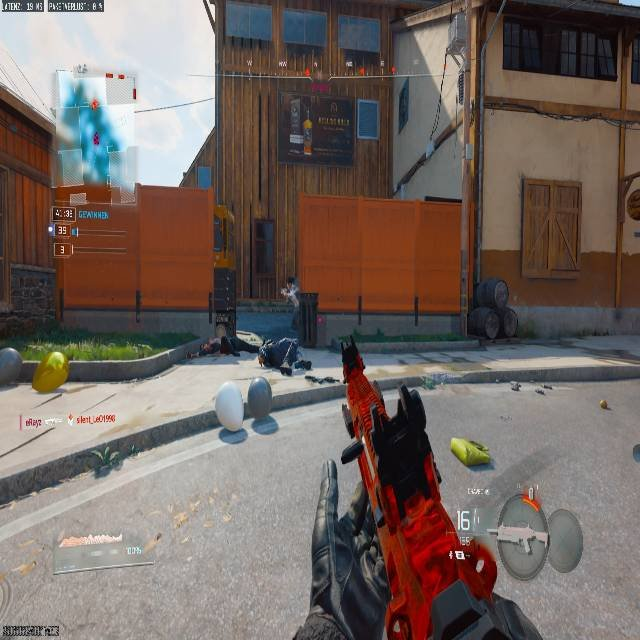head: (287, 276, 296, 286)
